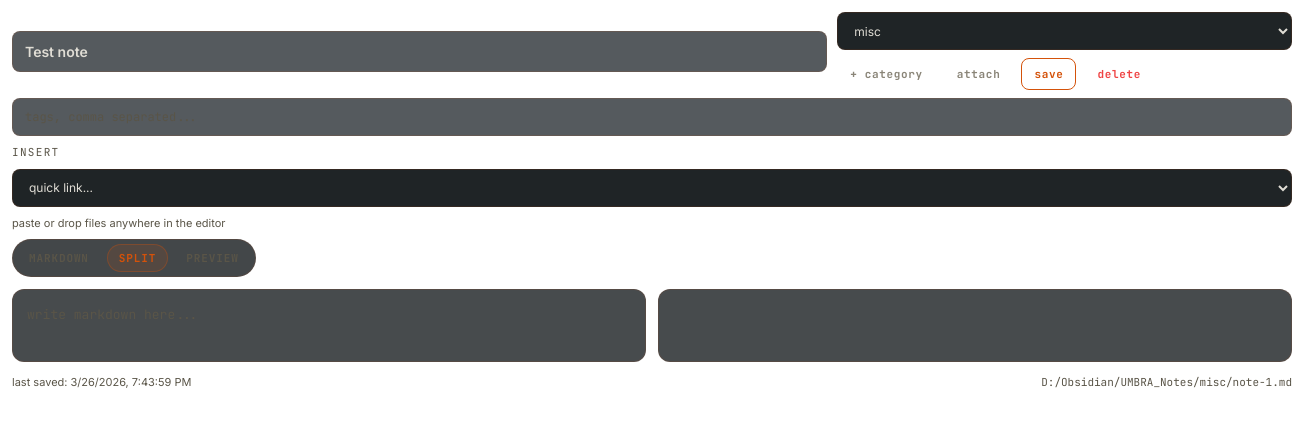
Scenario: NoteEditor › inserts structured quick links and renders them as preview chips
Select "ship updater · UMBRA / in-progress" in the dropdown with test id "quick-link-select". click: (652, 188)
box: top-left (12, 168), bottom-right (1292, 206)
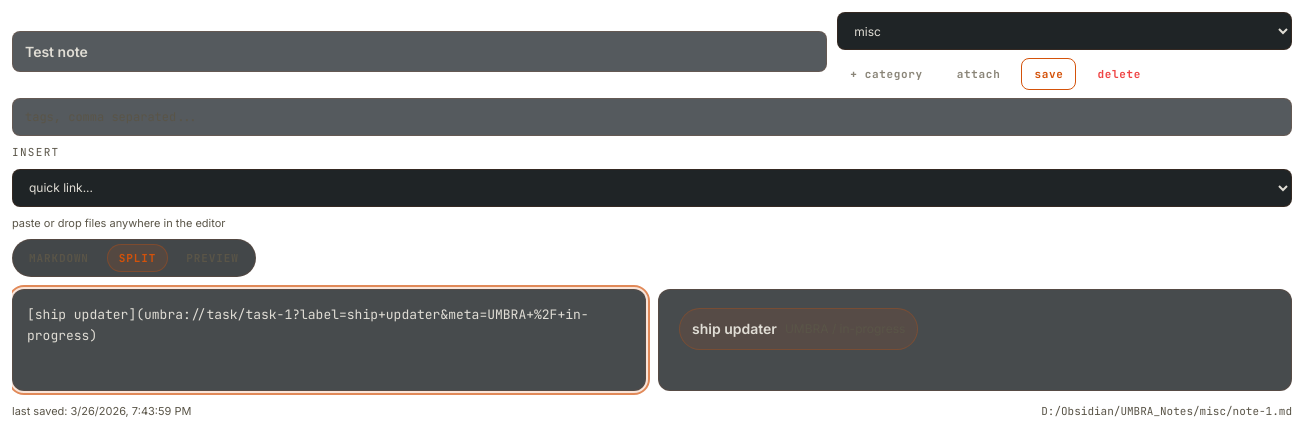
Now the element showing "ship updater UMBRA / in-progress" is shown, box top-left (658, 289), bottom-right (1292, 391)
